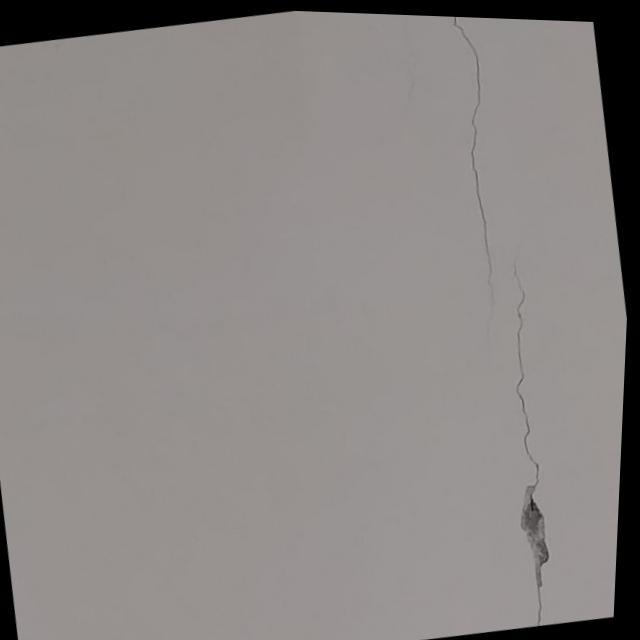Crack: (508, 254, 553, 618), (449, 19, 493, 302)
